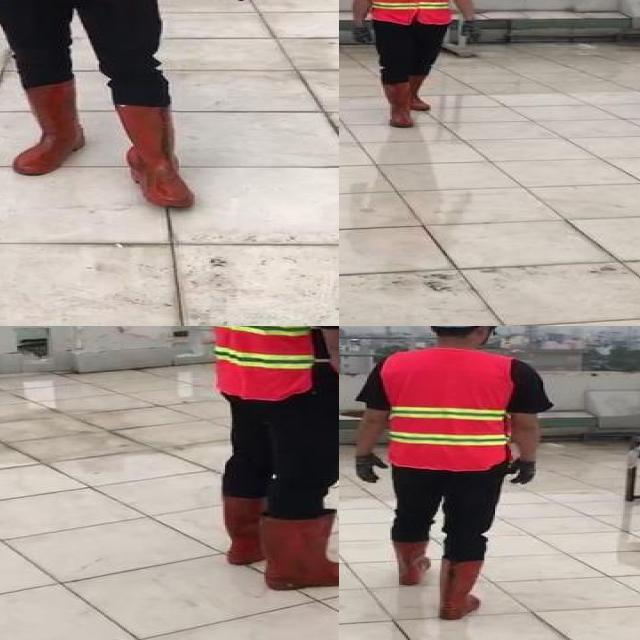boots: (111, 99, 197, 208), (255, 509, 339, 596), (14, 79, 83, 177), (218, 493, 275, 571), (438, 553, 484, 620), (388, 535, 434, 586), (381, 78, 415, 128), (408, 72, 436, 111)
hand_glove: (349, 454, 388, 481), (460, 20, 486, 45), (508, 459, 534, 484), (351, 24, 372, 47)
person: (344, 326, 554, 628), (0, 0, 271, 218), (189, 326, 339, 596), (345, 0, 487, 130)
vest: (382, 349, 508, 471), (198, 326, 329, 403), (370, 0, 450, 23)
